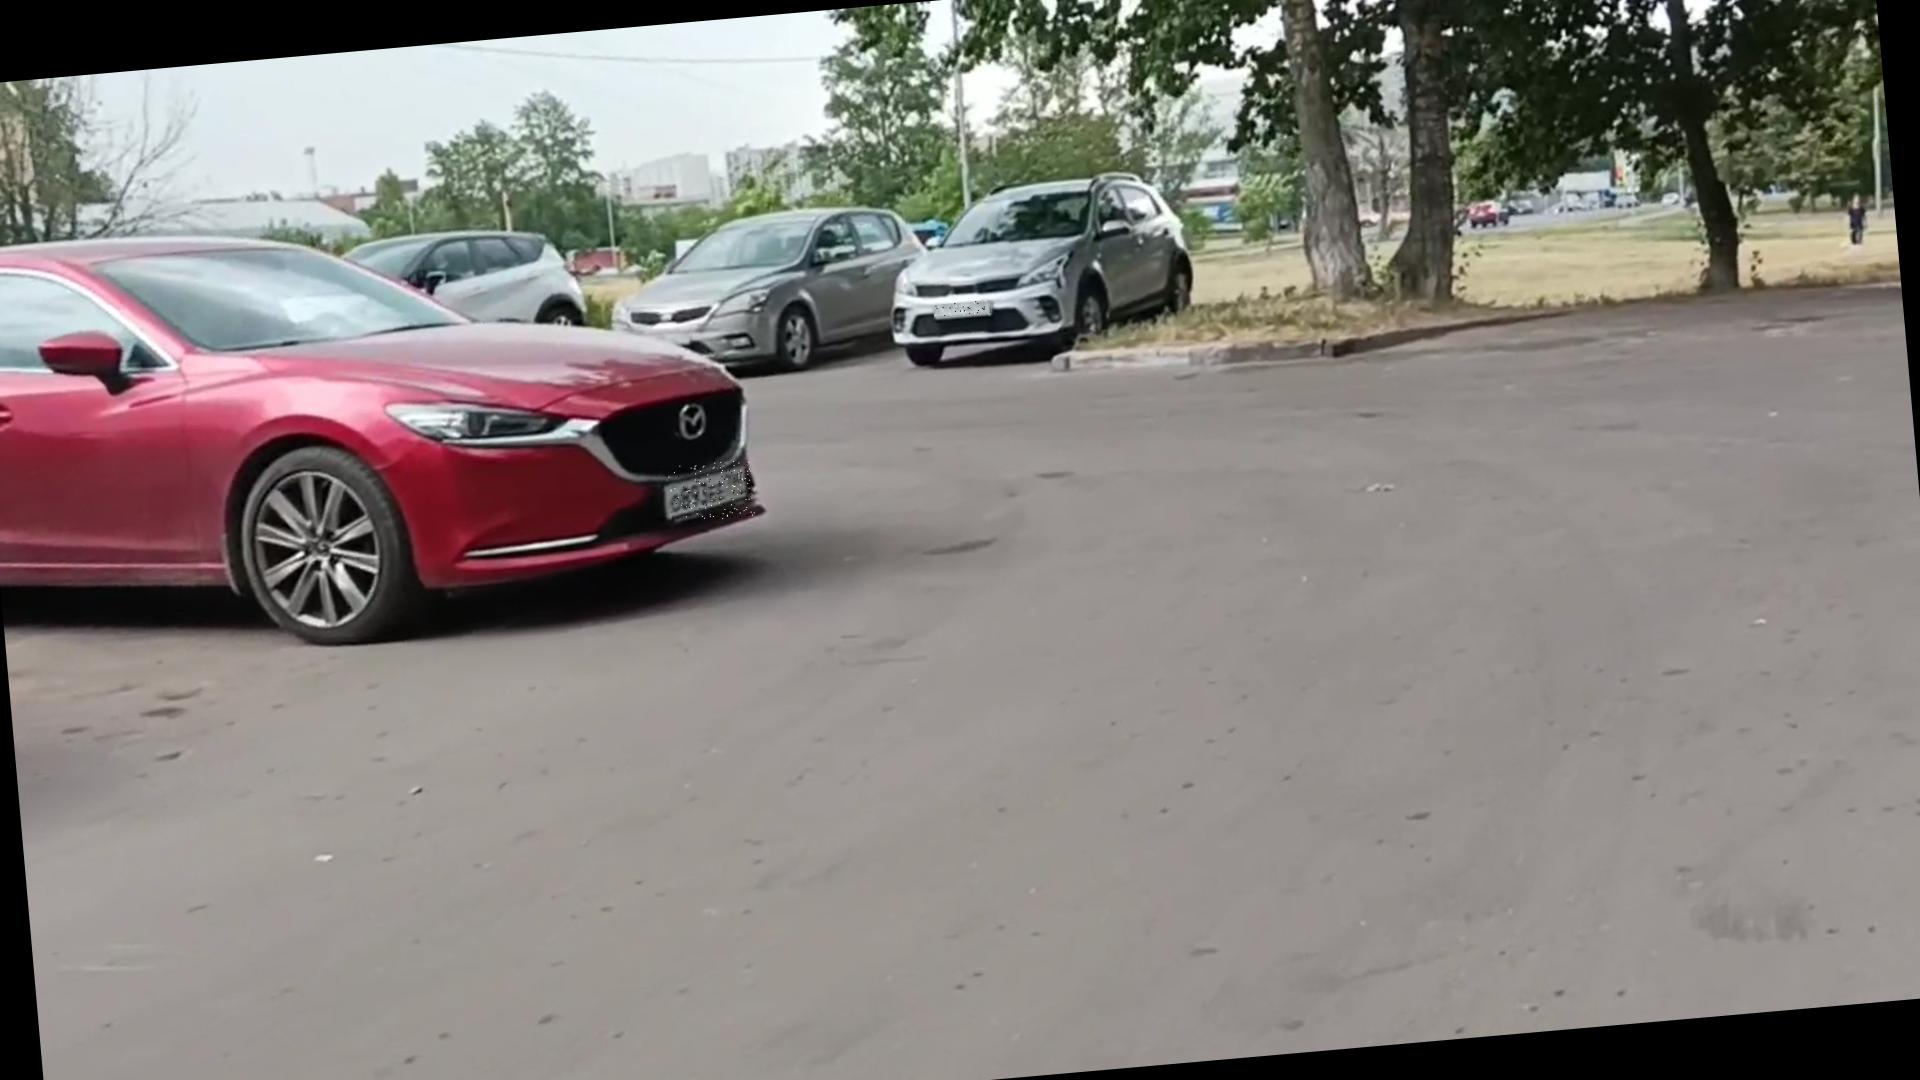plate: (669, 461, 757, 525), (935, 301, 993, 319)
